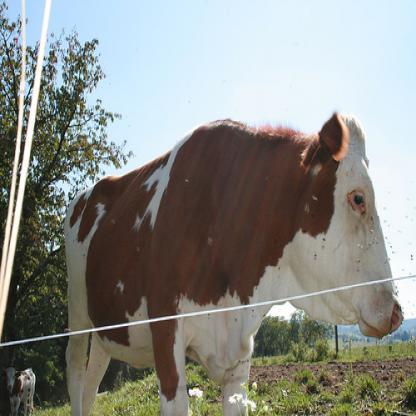cow: (62, 107, 402, 415), (0, 364, 36, 414)
